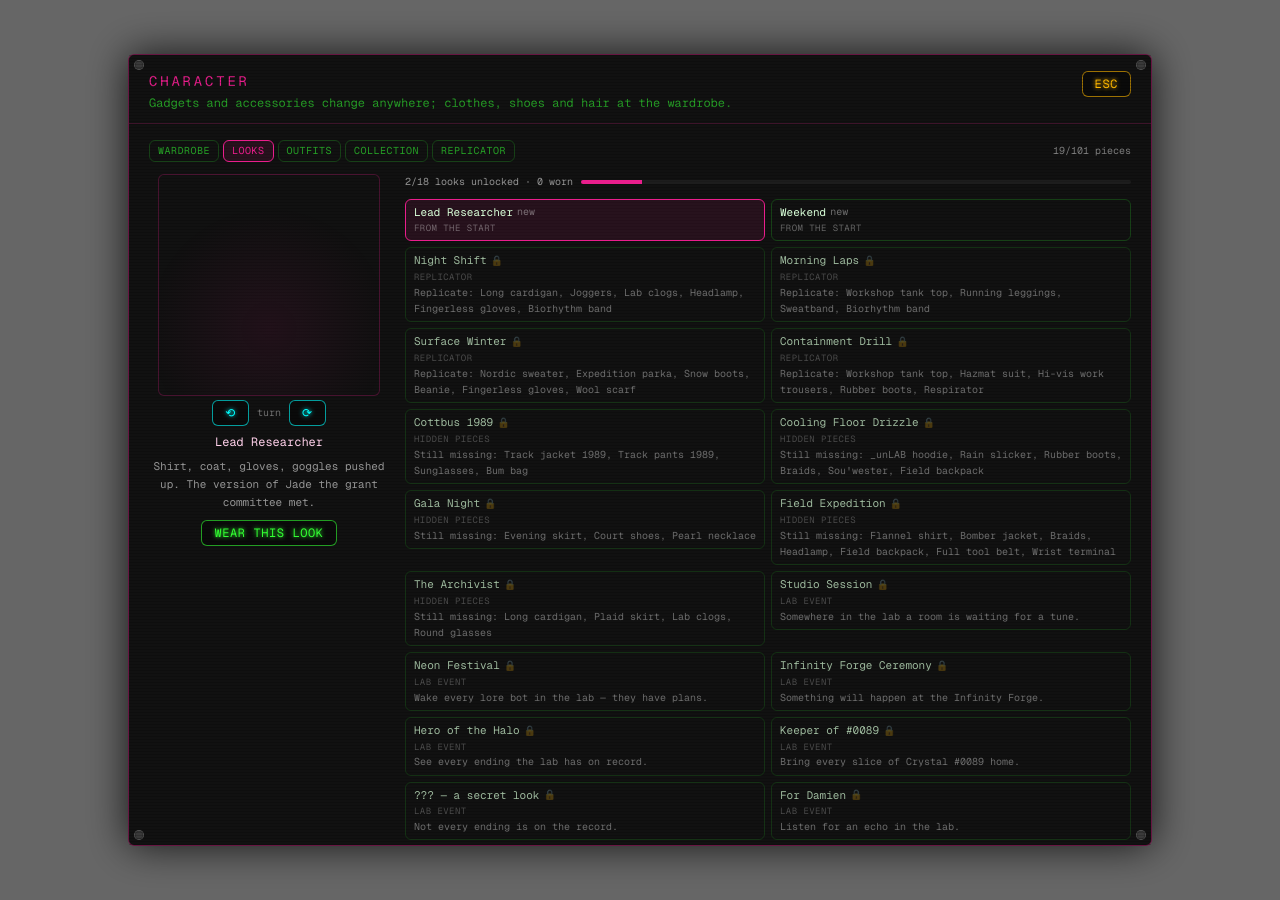
Test: character menu — looks › lists all eighteen looks; locked ones with a hint, the secret one hidden
Check: the button "Weekend new From the start" is shown, box [771,198,1131,241]
Check: the button that starts with "Night Shift" shows "Replicate", box [405,247,765,322]
Click the button that starts with "Gala Night": (447, 503) [405,490,765,549]
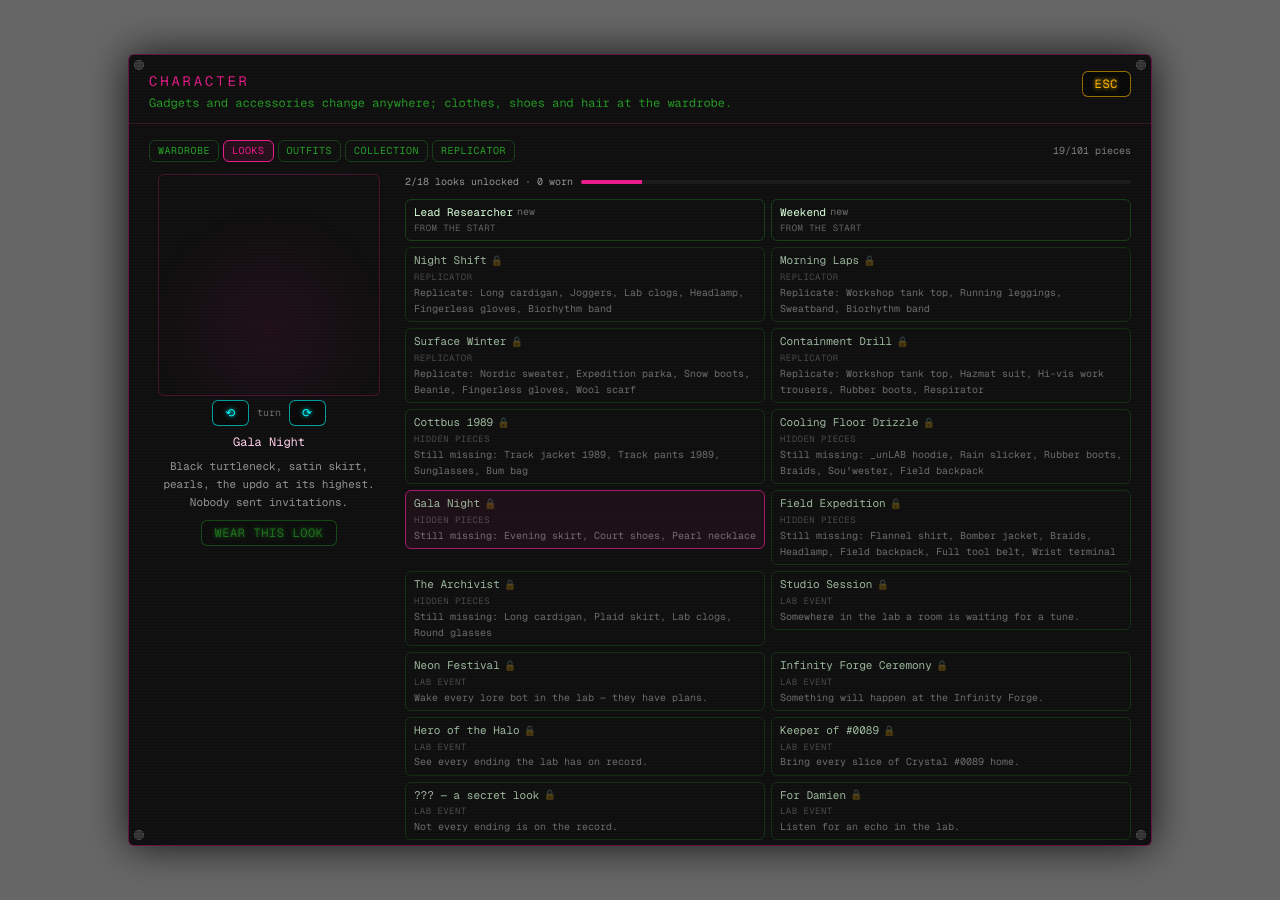
Check: the button "Wear this look" is disabled, box [201,520,337,546]
